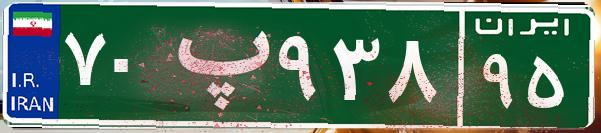0: (110, 28, 158, 105)
3: (330, 28, 385, 110)
5: (525, 38, 570, 115)
7: (57, 26, 110, 107)
8: (385, 28, 445, 110)
9: (273, 28, 330, 110), (475, 38, 525, 113)
پ: (158, 15, 273, 115)
